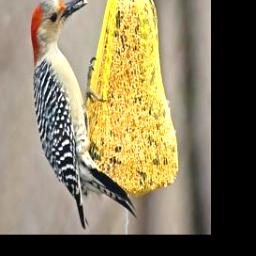Woodpecker: (16, 0, 142, 226)
